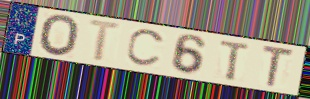6: (169, 33, 208, 77)
C: (124, 29, 168, 70)
O: (38, 13, 82, 58)
T: (85, 17, 125, 64), (261, 43, 297, 89), (218, 39, 253, 82)
